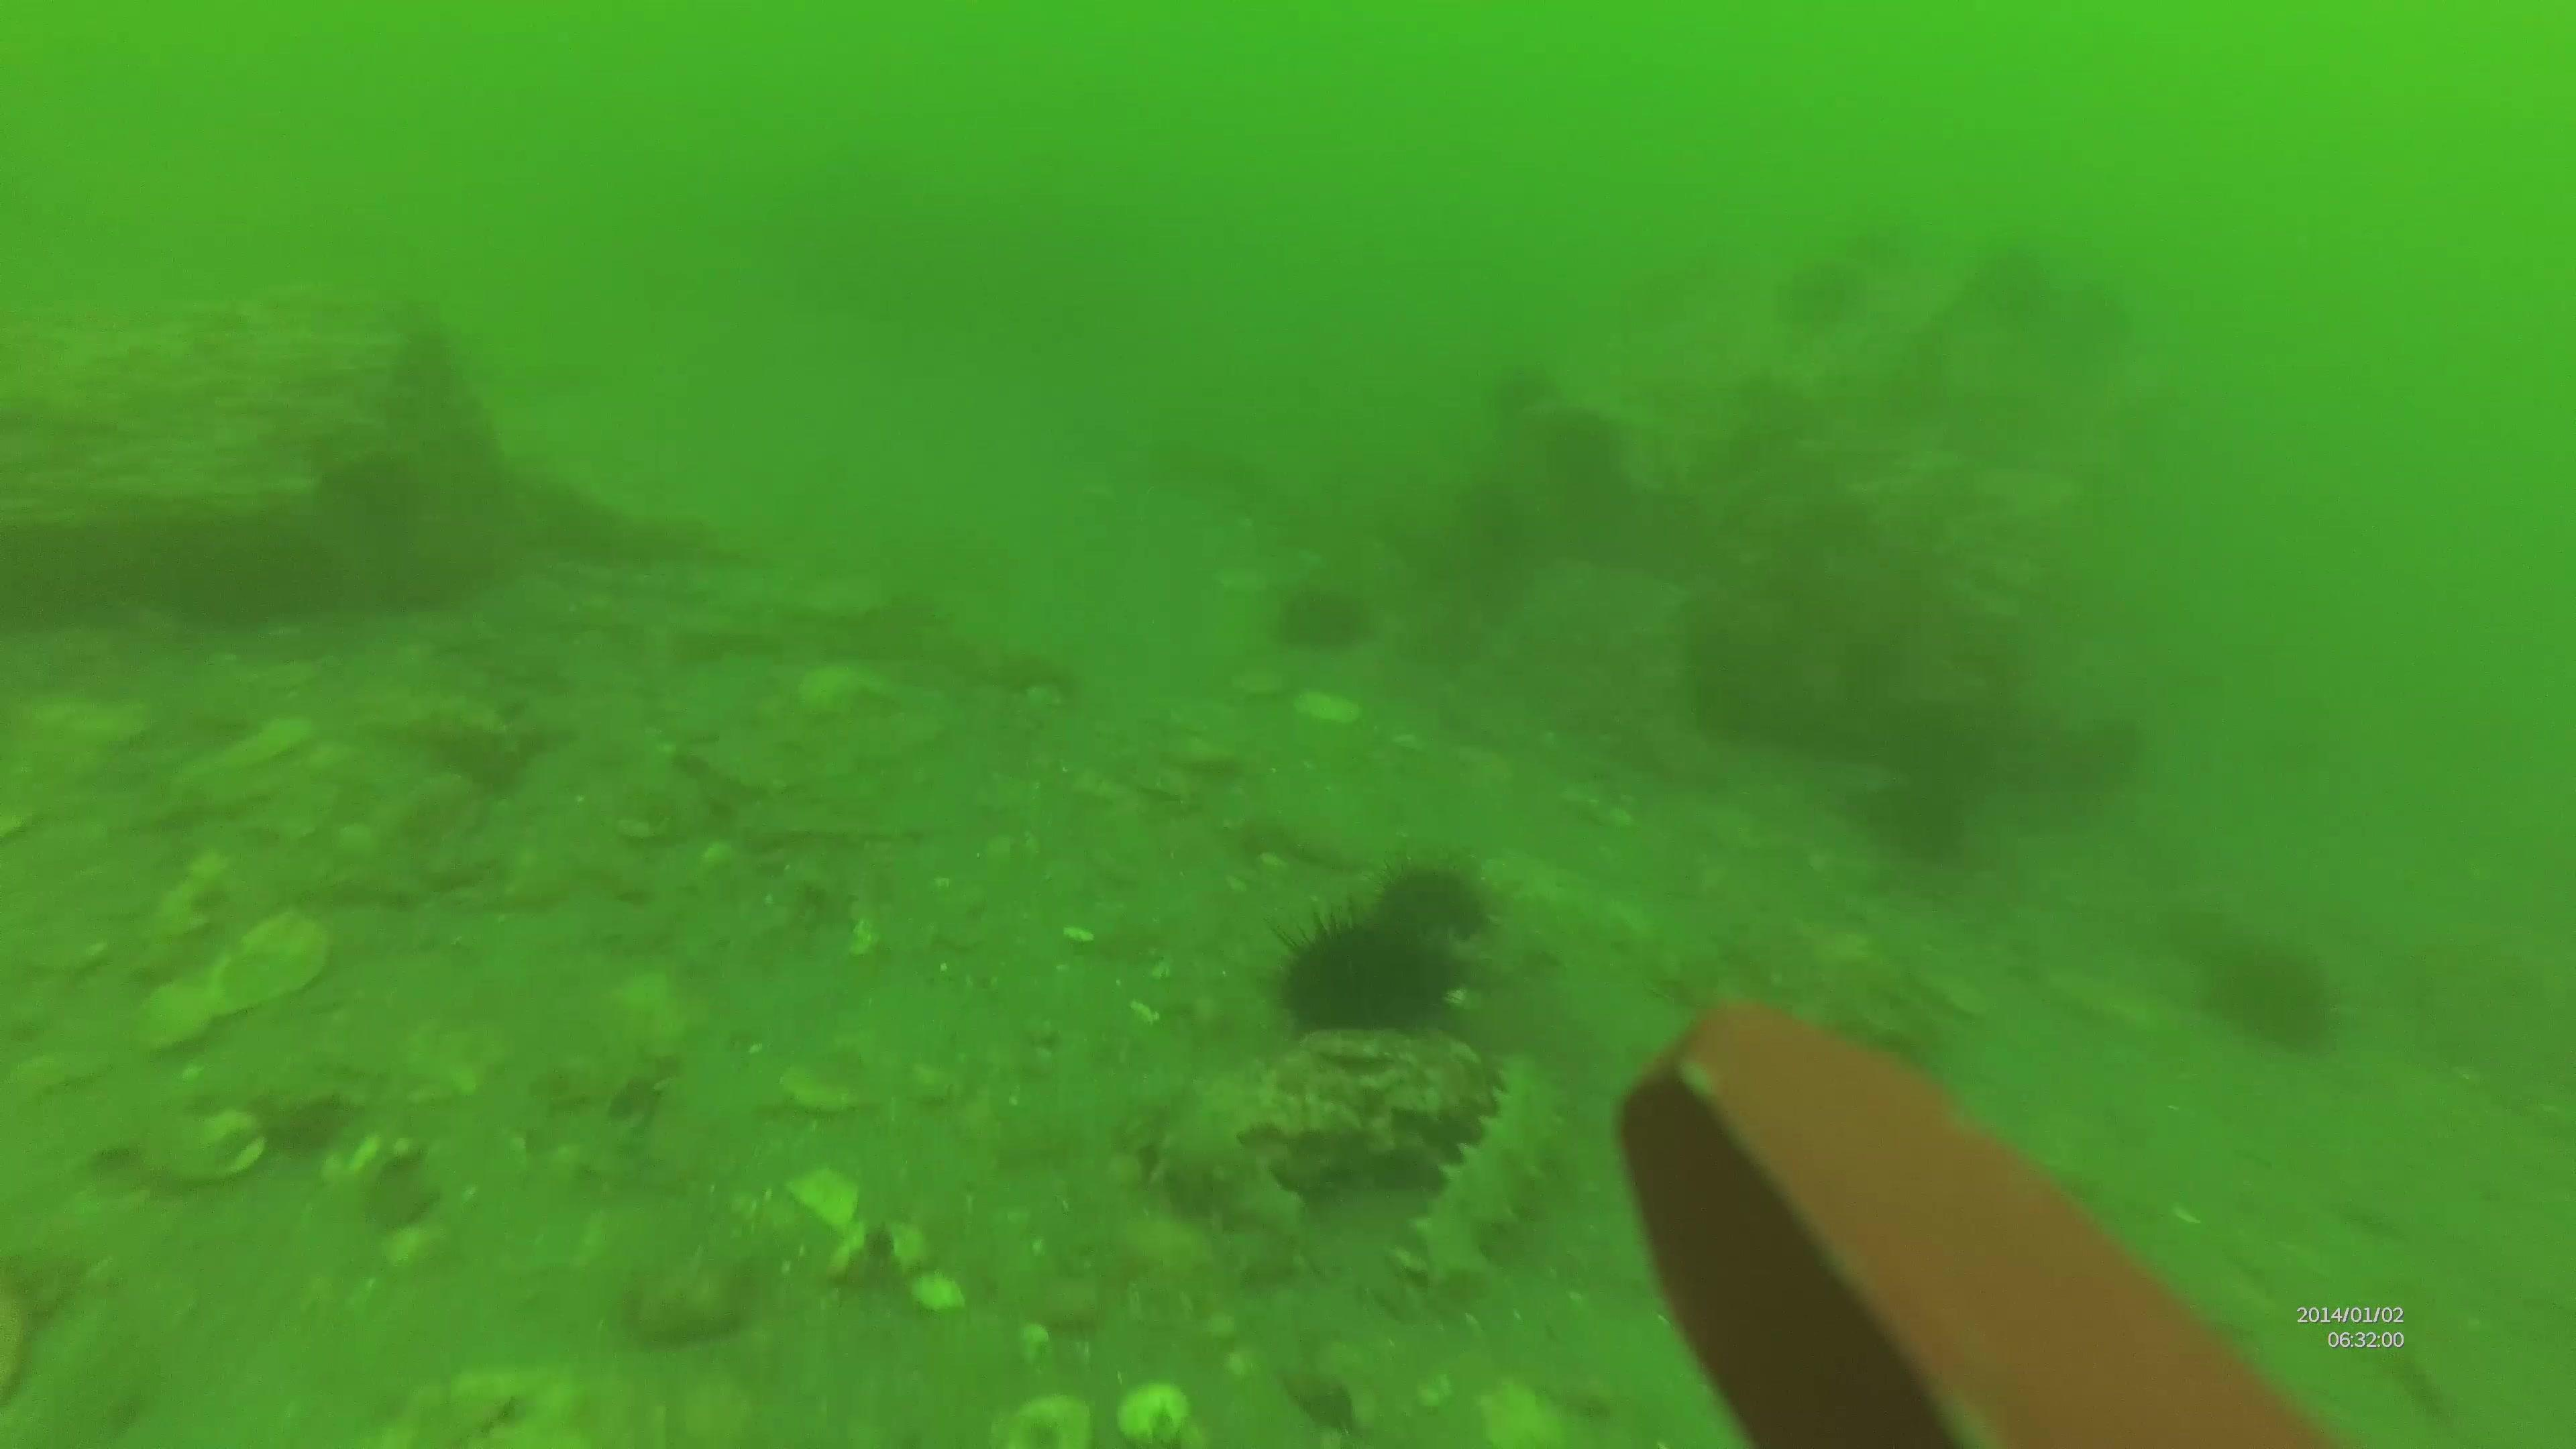echinus: (1253, 911, 1465, 1035), (2204, 931, 2339, 1047), (1371, 853, 1511, 927)
holothurian: (1389, 1047, 1580, 1299)
